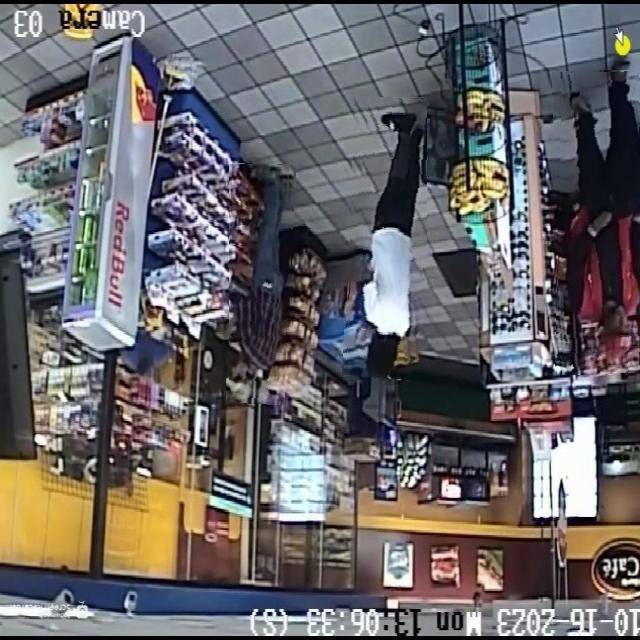Normal: (555, 71, 640, 375), (346, 97, 427, 379), (229, 164, 294, 404)
